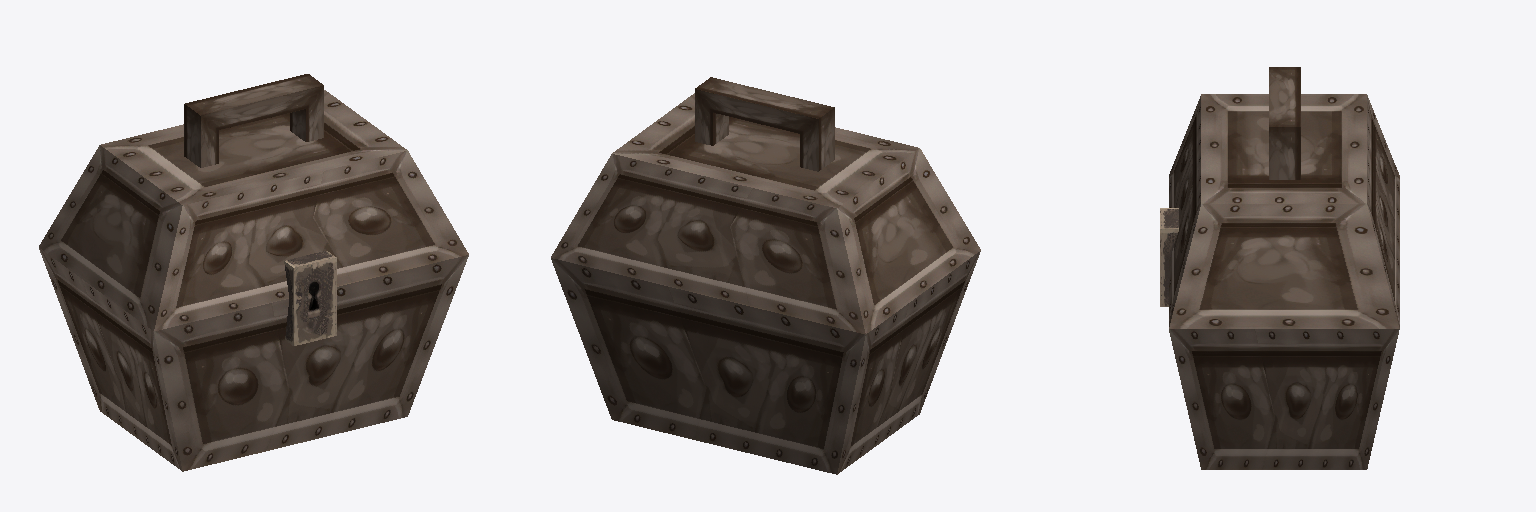
3 renders of one model, left to right at view 1: azimuth 30°, elevation 25°; view 2: azimuth 150°, elevation 25°; view 3: azimuth 270°, elevation 25°, orthographic.
Parts seen in each view (by area): view 1: lunchbox01; view 2: lunchbox01; view 3: lunchbox01.
Boxes of the visible parts, x1=… form: lunchbox01: x1=39, y1=74, x2=468, y2=471; lunchbox01: x1=551, y1=77, x2=980, y2=474; lunchbox01: x1=1160, y1=67, x2=1399, y2=469.
Size of the model in its own units: 0.8463 by 0.818 by 0.5564.
Materials: 1 (1 with a texture image).